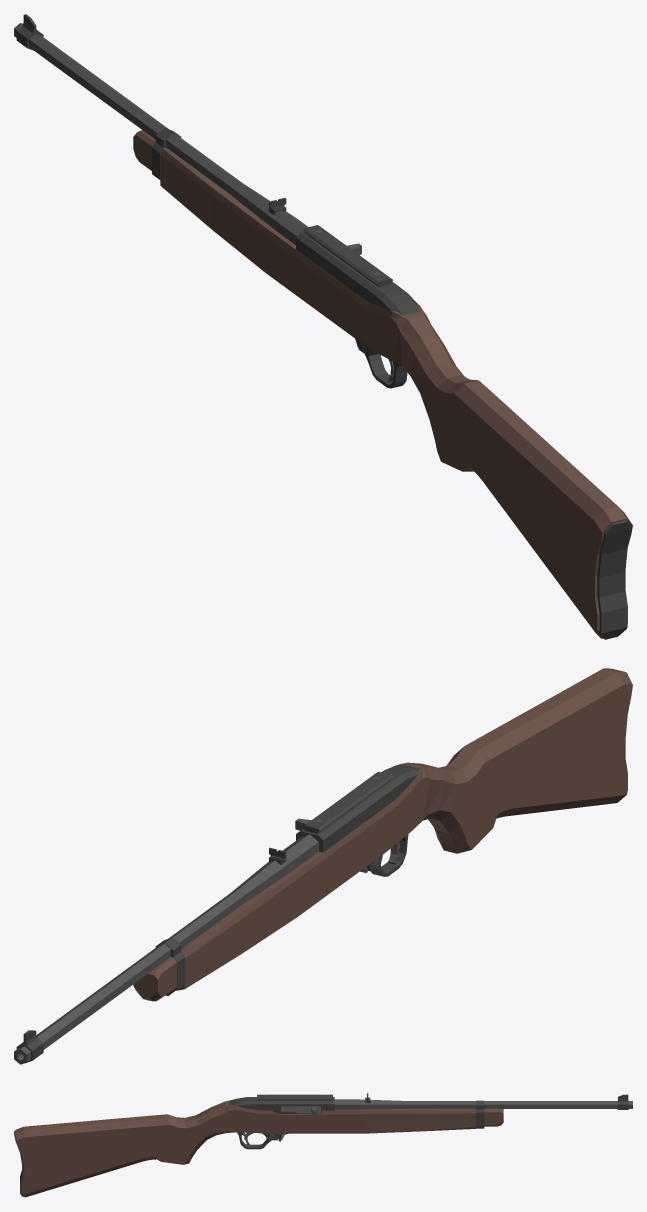
The picture shows the model from 3 angles, top to bottom: view 1: azimuth 30°, elevation 25°; view 2: azimuth 150°, elevation 25°; view 3: azimuth 270°, elevation 25°; orthographic projection. The views are drawn at different scales.
Parts seen in each view (by area): view 1: ruger-10-22; view 2: ruger-10-22; view 3: ruger-10-22.
Boxes of the visible parts, x1,y1,x2,y2 form: ruger-10-22: (14, 14, 632, 639); ruger-10-22: (14, 668, 632, 1064); ruger-10-22: (14, 1093, 632, 1197).
Size of the model in its own units: 0.0426 by 0.1683 by 0.94.
